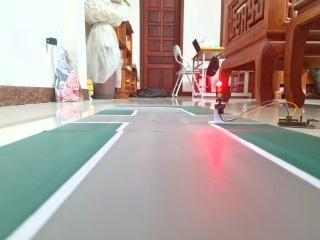red: (210, 71, 228, 116)
